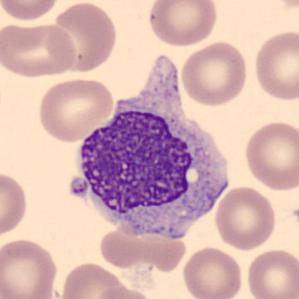Monocyte: (68, 64, 233, 247)
Platelets: (65, 172, 90, 201)
RBC: (36, 75, 116, 143), (95, 217, 187, 276), (49, 0, 119, 74), (178, 39, 250, 107), (0, 19, 80, 79), (212, 184, 278, 251), (242, 118, 298, 192), (0, 235, 61, 299), (179, 244, 245, 299), (146, 0, 220, 48), (251, 28, 298, 103), (244, 246, 298, 299), (57, 260, 130, 299), (0, 168, 31, 240), (0, 0, 62, 22), (92, 285, 156, 299), (266, 0, 299, 13)
